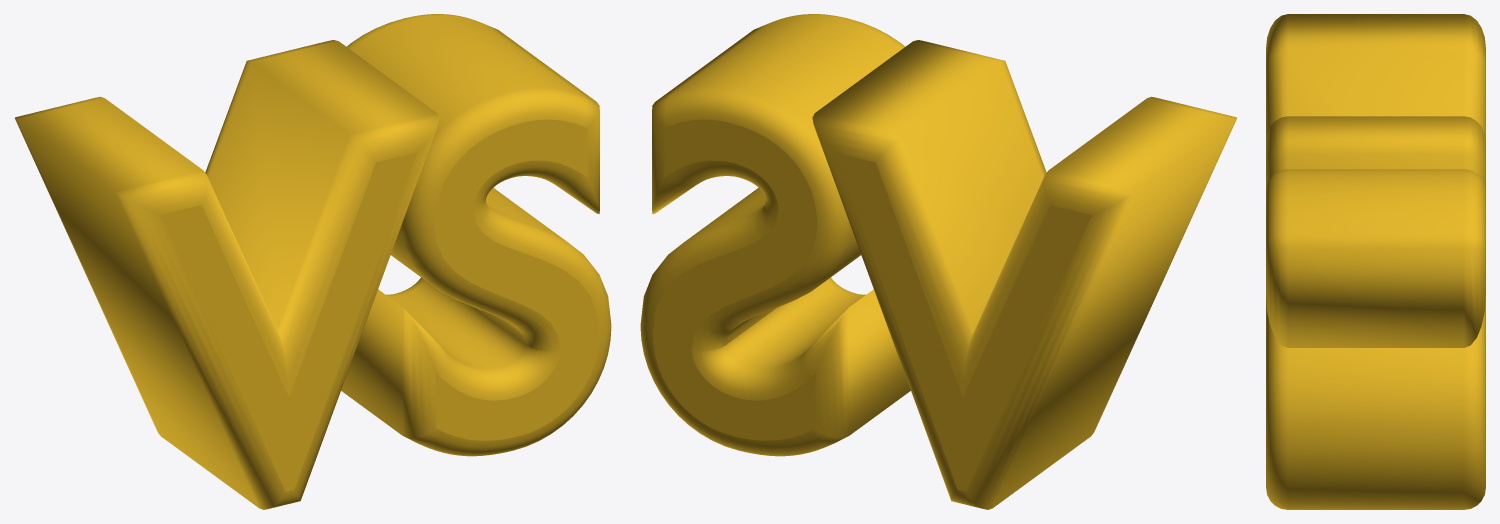
The picture shows the model from 3 angles, left to right: view 1: azimuth 30°, elevation 25°; view 2: azimuth 150°, elevation 25°; view 3: azimuth 270°, elevation 25°; orthographic projection. The views are drawn at different scales.
Parts seen in each view (by area): view 1: VS; view 2: VS; view 3: VS.
Boxes of the visible parts, box(x1,y1,x2,y2) form: VS: box(15, 14, 611, 509); VS: box(640, 14, 1236, 509); VS: box(1266, 14, 1485, 509).
Size of the model in its own units: 1.16 by 0.8001 by 0.5.
